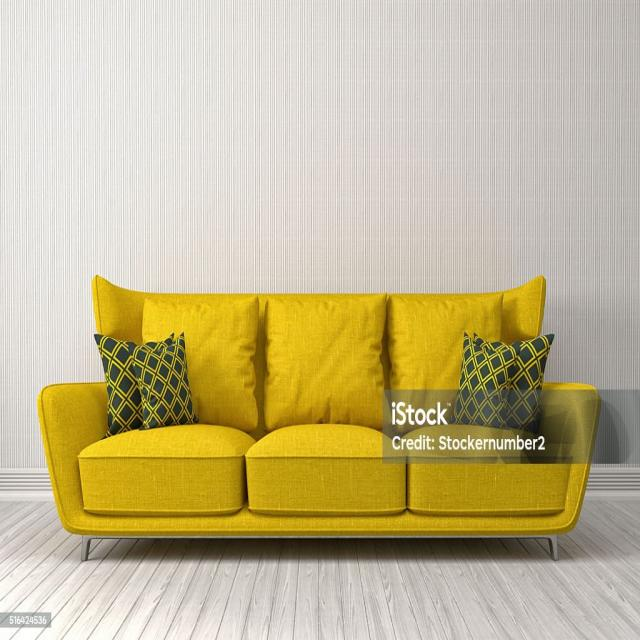back_cushion: (94, 276, 544, 431)
left_arm: (530, 383, 601, 475)
legs: (523, 535, 558, 560), (81, 535, 111, 561)
right_arm: (38, 383, 106, 532)
seat_cushion: (62, 425, 587, 534)
stallion-sofa1: (38, 276, 599, 559)
